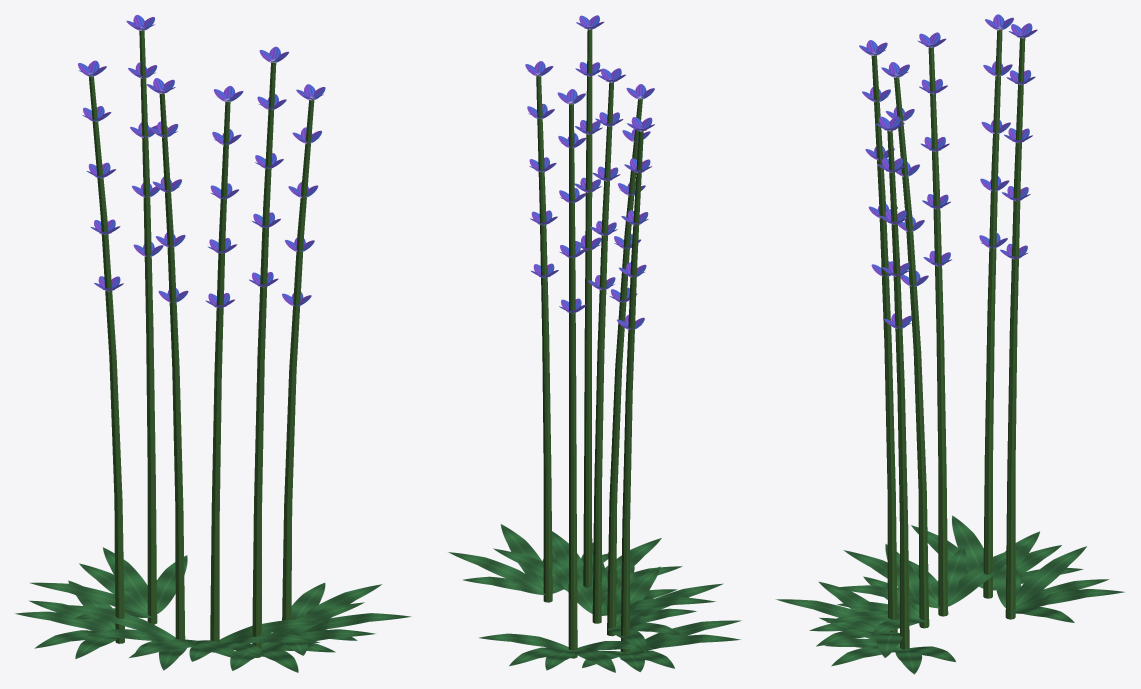
Rendered from lupine_v01.glb.
3 views of the same model, side by side, from view 1: azimuth 30°, elevation 25°; view 2: azimuth 150°, elevation 25°; view 3: azimuth 270°, elevation 25° (orthographic). The views are drawn at different scales.
Parts seen in each view (by area): view 1: lupine_v01; view 2: lupine_v01; view 3: lupine_v01.
Part boxes in pixels (bbox=[...]): lupine_v01: bbox=[15, 14, 411, 672]; lupine_v01: bbox=[448, 15, 741, 672]; lupine_v01: bbox=[775, 14, 1124, 674].
Bounding box in the file's own units: 0.5014 × 0.8736 × 0.4701.
Materials: 3 (3 with a texture image).
